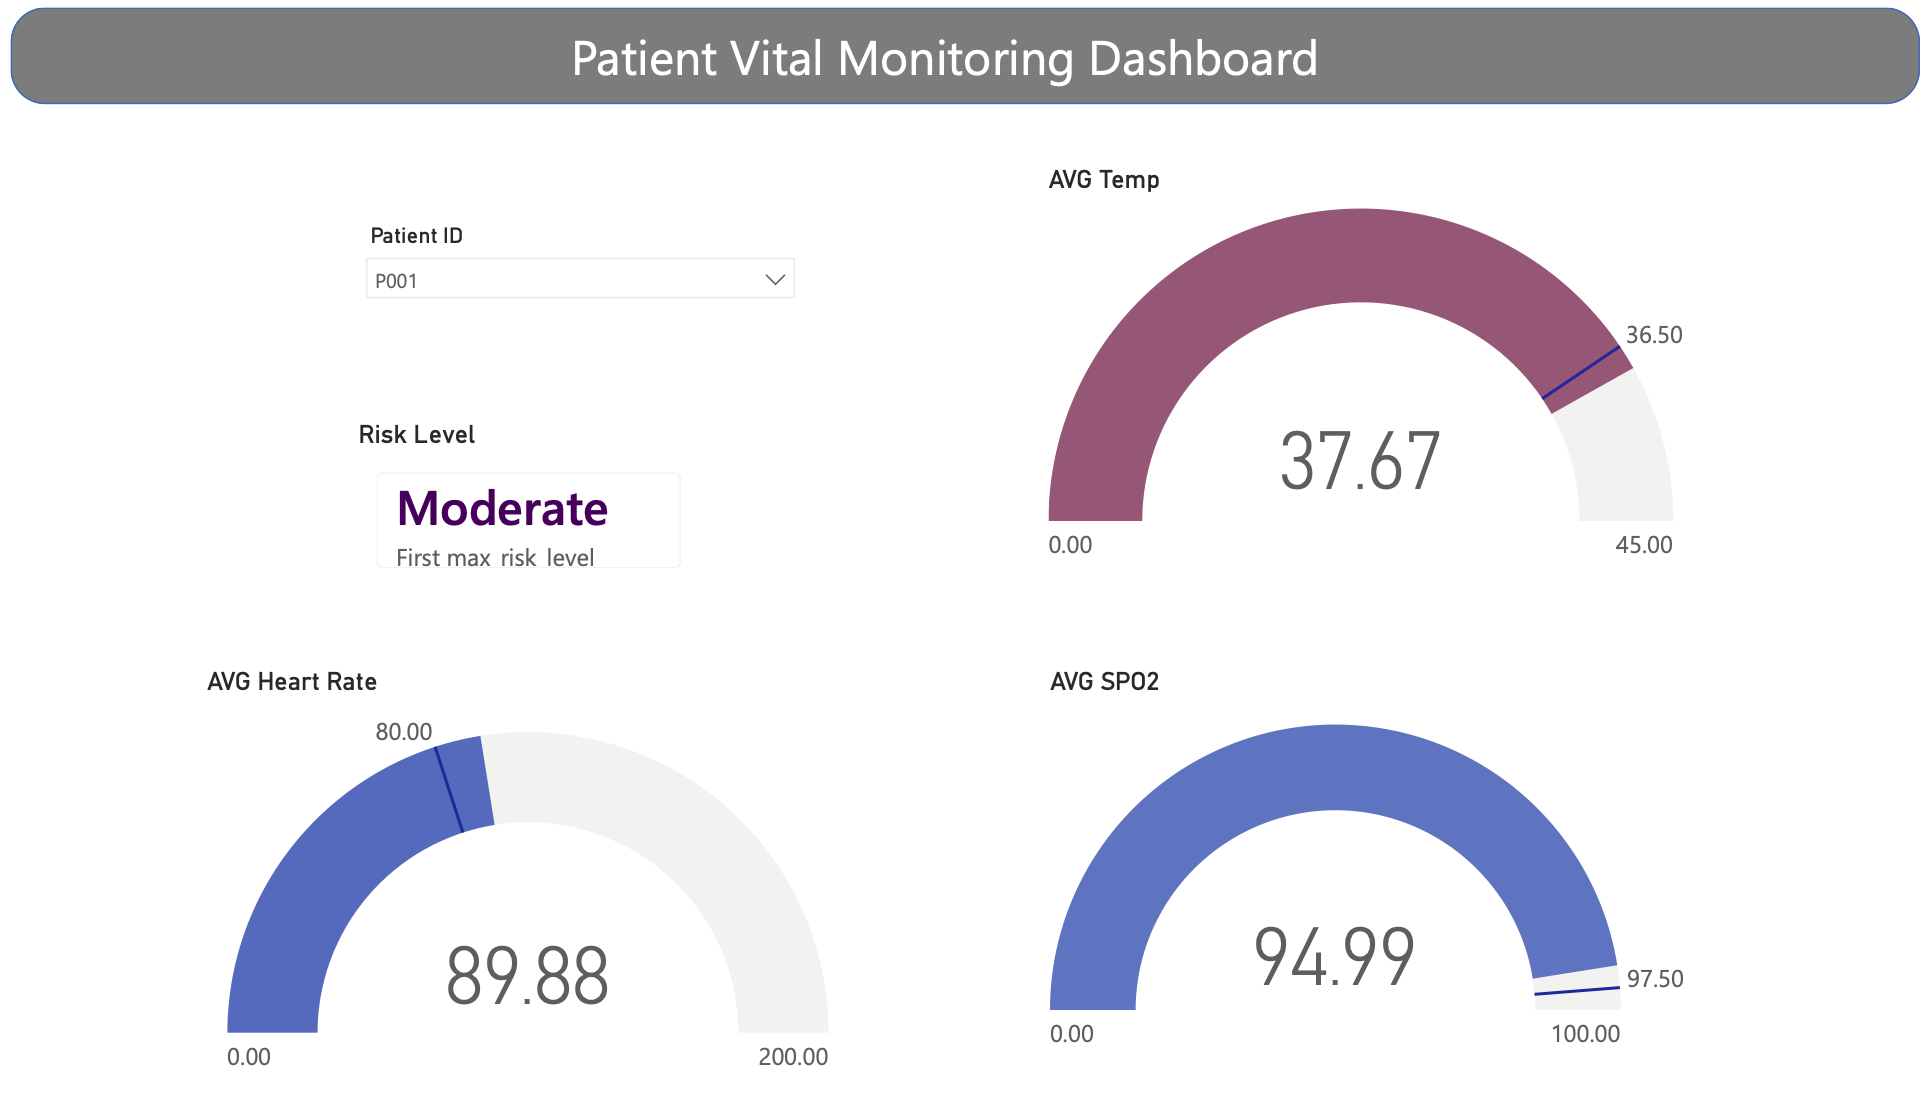

Layout of this report page (visuals, bound fields, positions):
{"tool":"powerbi","page":{"name":"Page 1","canvas":[1280,720],"ordinal":0},"visuals":[{"type":"gauge","title":"AVG Heart Rate","fields":{"Y":["Avg(patient_risk_analytics.avg_heart_rate)"]},"box":[133.1,438.9,437.9,281],"z":0},{"type":"gauge","title":"AVG SPO2","fields":{"Y":["Avg(patient_risk_analytics.avg_spo2)"]},"box":[695.1,438.9,437.9,281],"z":1000},{"type":"gauge","title":"AVG Temp","fields":{"Y":["Avg(patient_risk_analytics.avg_temperature)"]},"box":[694.1,104.3,438.9,281],"z":2000},{"type":"slicer","fields":{"Values":["patient_risk_analytics.patient_id"]},"box":[234.4,139,305.8,106.3],"z":3000},{"type":"cardVisual","title":"Risk Level","fields":{"Data":["Min(patient_risk_analytics.max_risk_level)"]},"box":[234.3,273.8,237,117.6],"z":3001},{"type":"shape","box":[7,0,1273,64.5],"z":3002},{"type":"textbox","box":[376.4,5,534.2,59.6],"z":3003}]}

Visuals, with their boxes in screenshot pixels (x1, y1, x2, y2), scaled from the page's 1280x720 canvas onto the 1920x1095 screenshot:
"AVG Heart Rate" gauge: left=200, top=667, right=856, bottom=1094
"AVG SPO2" gauge: left=1043, top=667, right=1700, bottom=1094
"AVG Temp" gauge: left=1041, top=159, right=1700, bottom=586
slicer - patient_risk_analytics.patient_id: left=352, top=211, right=810, bottom=373
"Risk Level" cardVisual: left=351, top=416, right=707, bottom=595
shape: left=10, top=0, right=1919, bottom=98
textbox: left=565, top=8, right=1366, bottom=98
